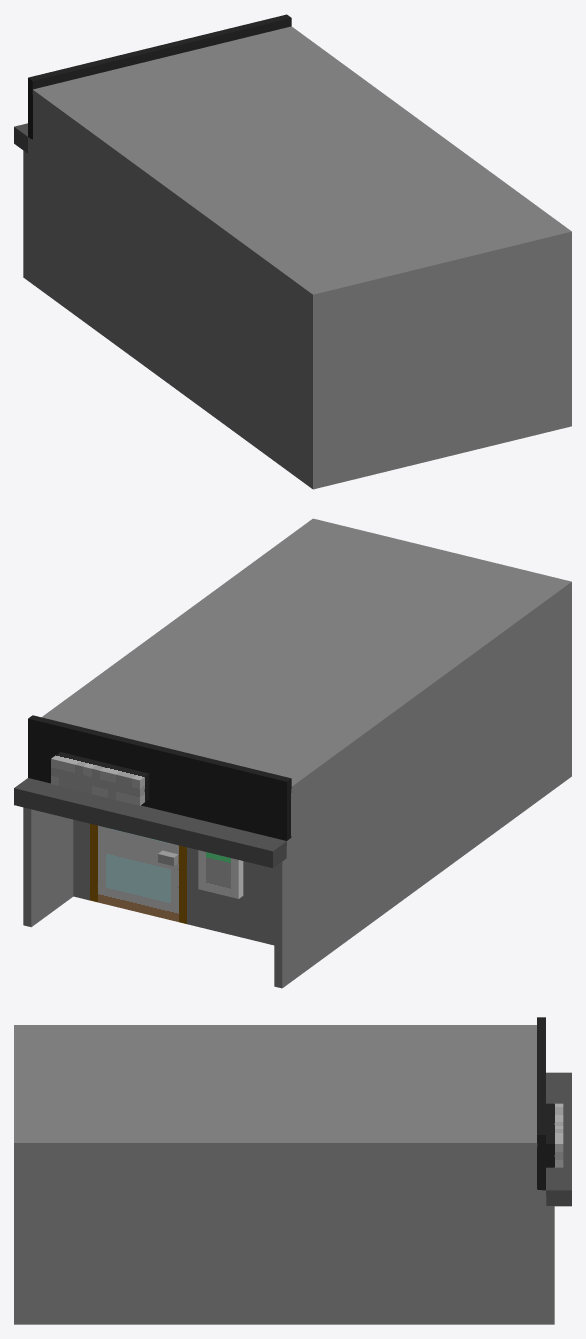
Rendered from obj_store14.fbx.
The picture shows the model from 3 angles, top to bottom: view 1: azimuth 30°, elevation 25°; view 2: azimuth 150°, elevation 25°; view 3: azimuth 270°, elevation 25°; orthographic projection. The views are drawn at different scales.
Parts seen in each view (by area): view 1: obj_store14; view 2: obj_store14; view 3: obj_store14.
Boxes of the visible parts, x1,y1,x2,y2 form: obj_store14: (14,14,571,489); obj_store14: (14,518,571,988); obj_store14: (14,1017,571,1324).
Size of the model in its own units: 3.2 by 6.4 by 2.4.
1 material, 1 textured.
